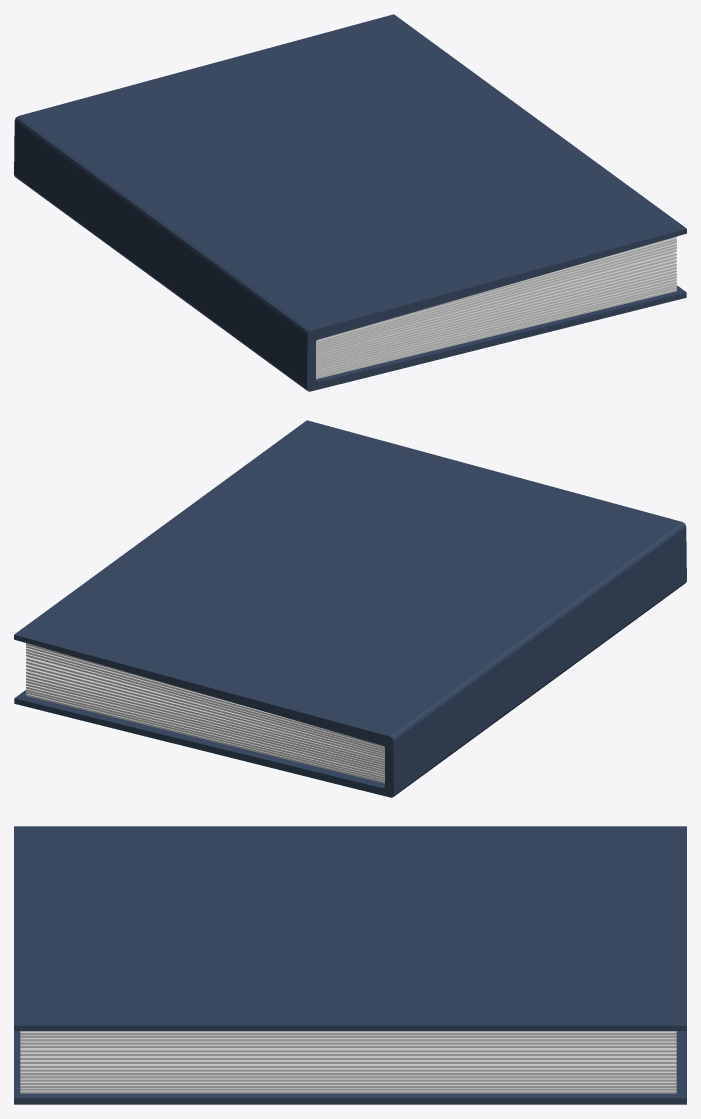
File: Book.fbx
3 views of the same model, one above another, from view 1: azimuth 30°, elevation 25°; view 2: azimuth 150°, elevation 25°; view 3: azimuth 270°, elevation 25° (orthographic). The views are drawn at different scales.
Visible parts, largest first — view 1: Cube; view 2: Cube; view 3: Cube.
Part boxes in pixels (x1,y1,x2,y2): Cube: [14, 14, 686, 391]; Cube: [14, 420, 686, 797]; Cube: [14, 826, 686, 1104].
Size of the model in its own units: 50.55 by 9.04 by 67.51.
